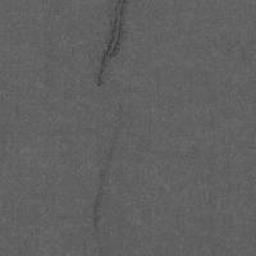Inclusion: (96, 18, 124, 87), (93, 170, 107, 232)
